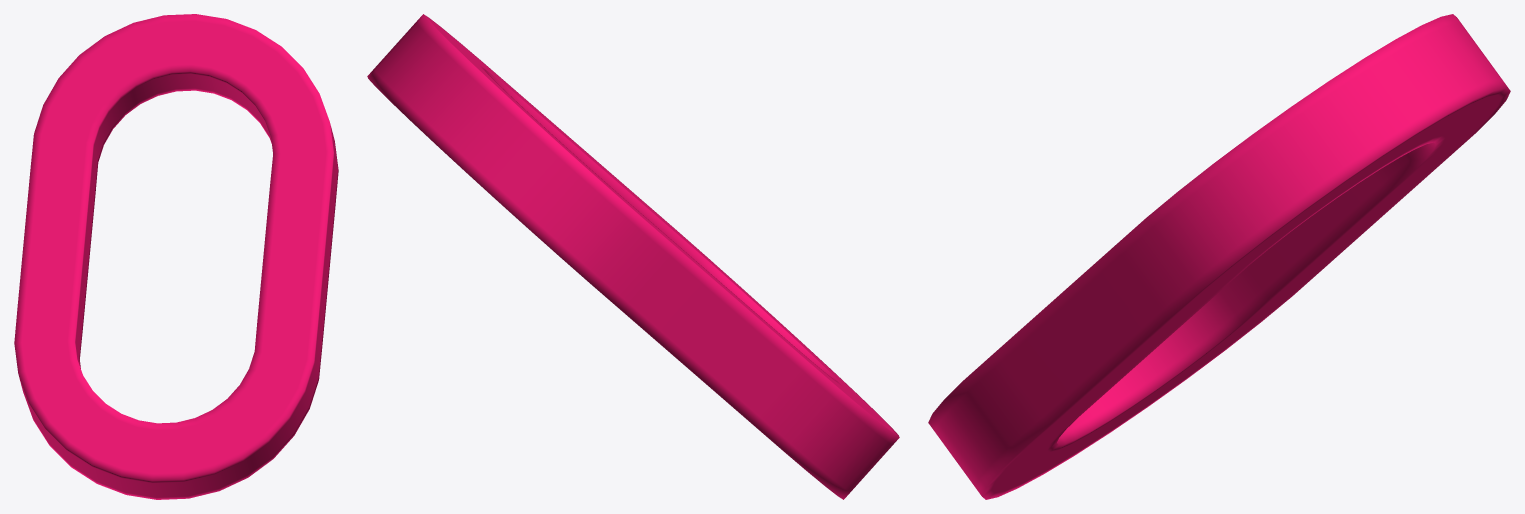
Rendered from Stadium_shape.glb.
3 views of the same model, side by side, from view 1: azimuth 30°, elevation 25°; view 2: azimuth 150°, elevation 25°; view 3: azimuth 270°, elevation 25° (orthographic). The views are drawn at different scales.
Visible parts, largest first — view 1: Stadium_shape.001; view 2: Stadium_shape.001; view 3: Stadium_shape.001.
Part boxes in pixels (x1=…): Stadium_shape.001: x1=14, y1=14, x2=338, y2=499; Stadium_shape.001: x1=367, y1=14, x2=899, y2=499; Stadium_shape.001: x1=928, y1=14, x2=1510, y2=499.
Bounding box in the file's own units: 2.81 × 2.97 × 2.86.
